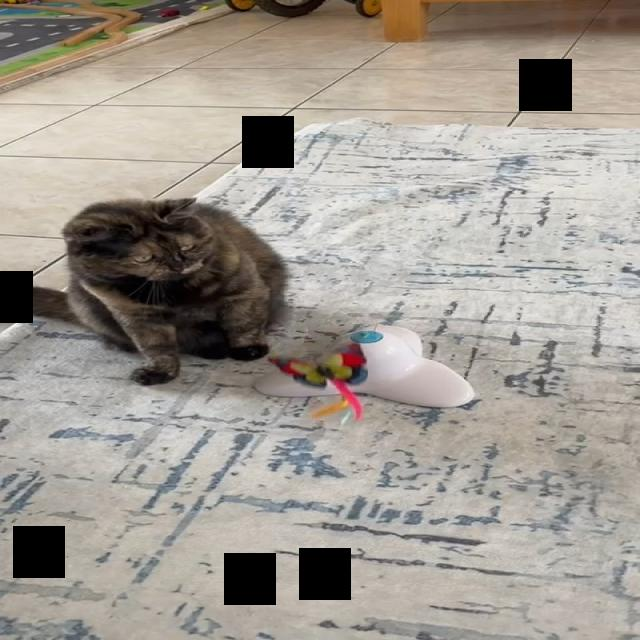authorized: (0, 196, 288, 386)
